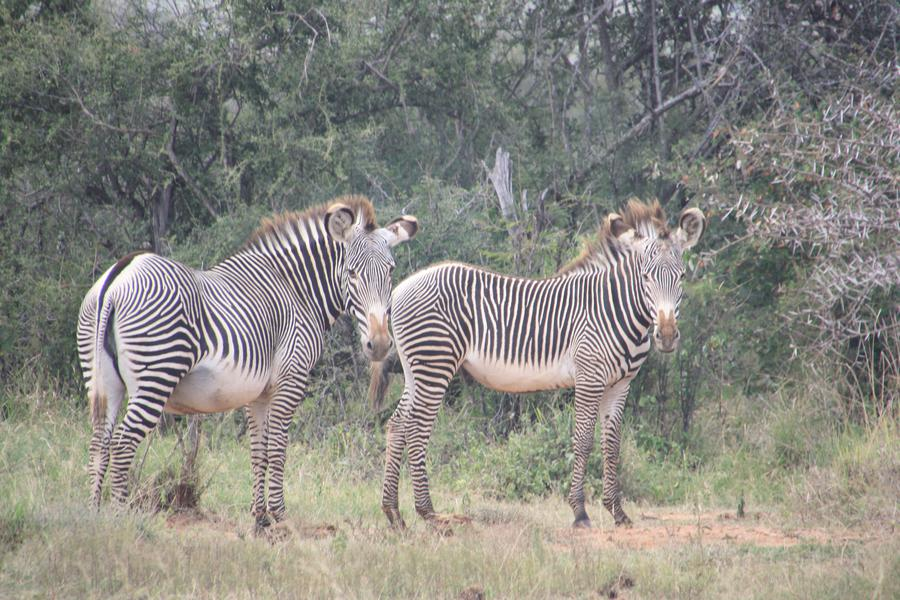zebra_grevys: (398, 250, 623, 390)
